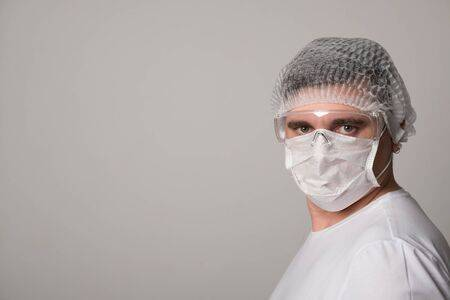surgical: (278, 128, 383, 214)
